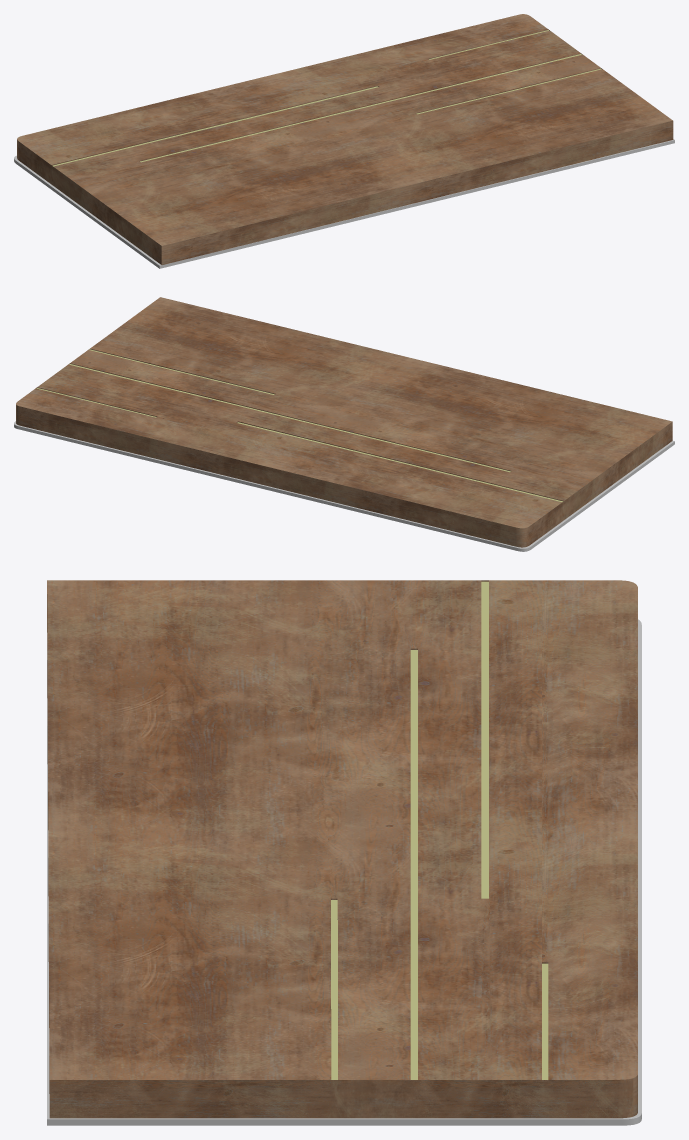
File: M_C_Deco_002_24x12.fbx
3 views of the same model, one above another, from view 1: azimuth 30°, elevation 25°; view 2: azimuth 150°, elevation 25°; view 3: azimuth 270°, elevation 25° (orthographic). The views are drawn at different scales.
Visible parts, largest first — view 1: M_C_Deco_002_24x12; view 2: M_C_Deco_002_24x12; view 3: M_C_Deco_002_24x12.
Part boxes in pixels (x1,y1,x2,y2): M_C_Deco_002_24x12: [14, 14, 674, 268]; M_C_Deco_002_24x12: [14, 297, 674, 551]; M_C_Deco_002_24x12: [47, 580, 641, 1125].
Size of the model in its own units: 24.15 by 1 by 12.08.
